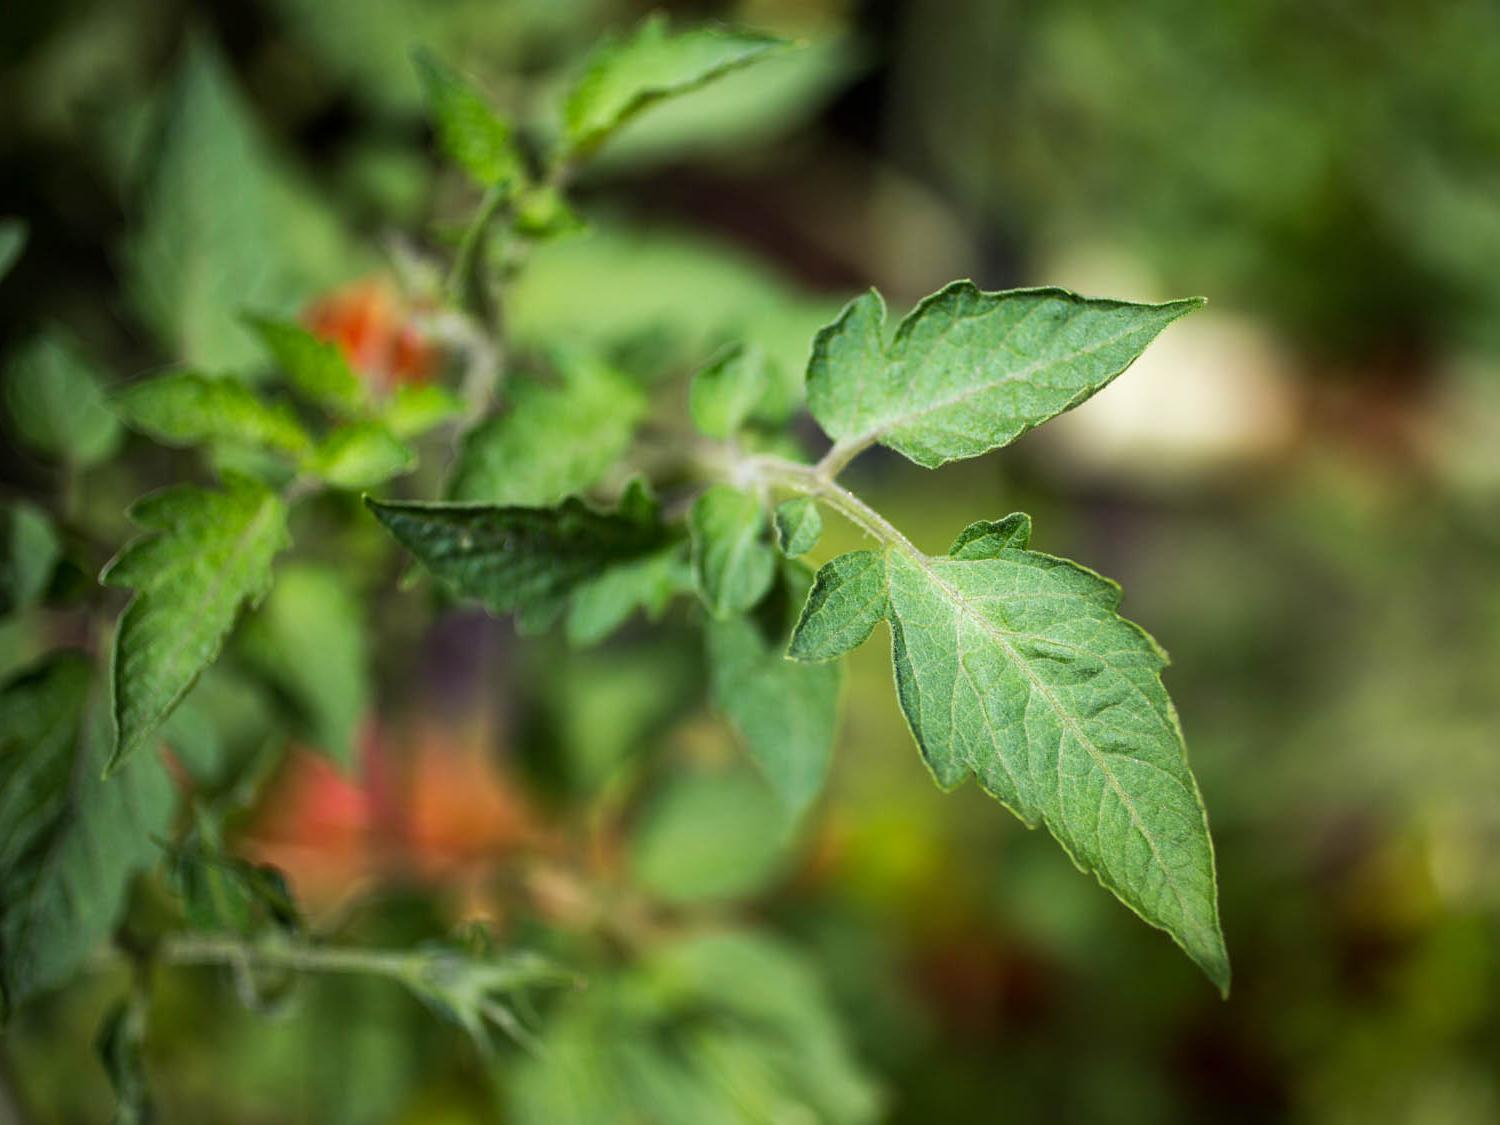Tomato leaf: (848, 516, 1289, 1038), (757, 258, 1263, 472)
